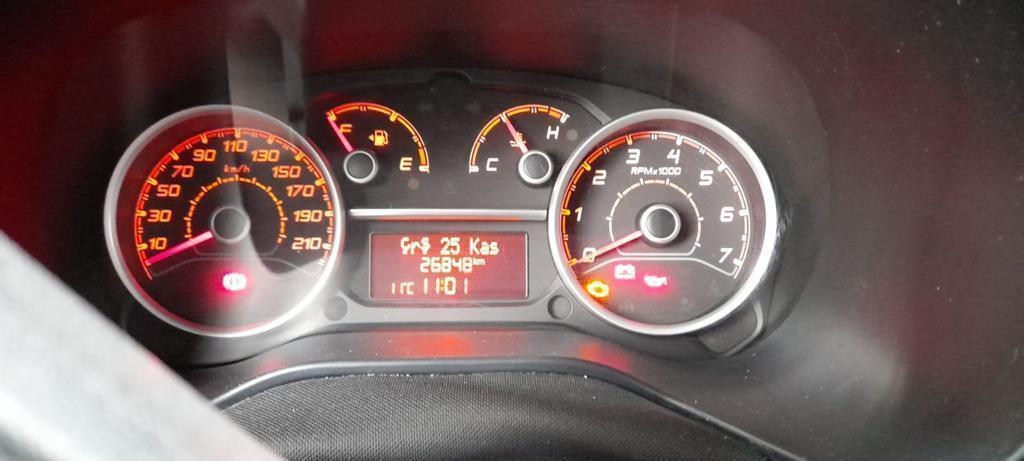0: (444, 276, 456, 295)
1: (435, 276, 440, 295), (423, 277, 428, 295), (463, 277, 468, 295), (390, 281, 396, 294), (399, 281, 403, 295)
2: (439, 236, 450, 255), (419, 256, 430, 272)
4: (451, 256, 462, 271)
5: (450, 236, 460, 254)
6: (430, 256, 440, 272)
8: (462, 256, 472, 272), (441, 256, 451, 272)
X: (469, 236, 480, 255), (400, 236, 410, 255), (420, 236, 430, 255), (410, 240, 420, 254), (479, 241, 489, 255), (489, 241, 499, 254), (405, 281, 415, 294), (477, 258, 485, 265), (472, 256, 478, 265), (440, 279, 444, 291)
odometer: (368, 231, 528, 301)
